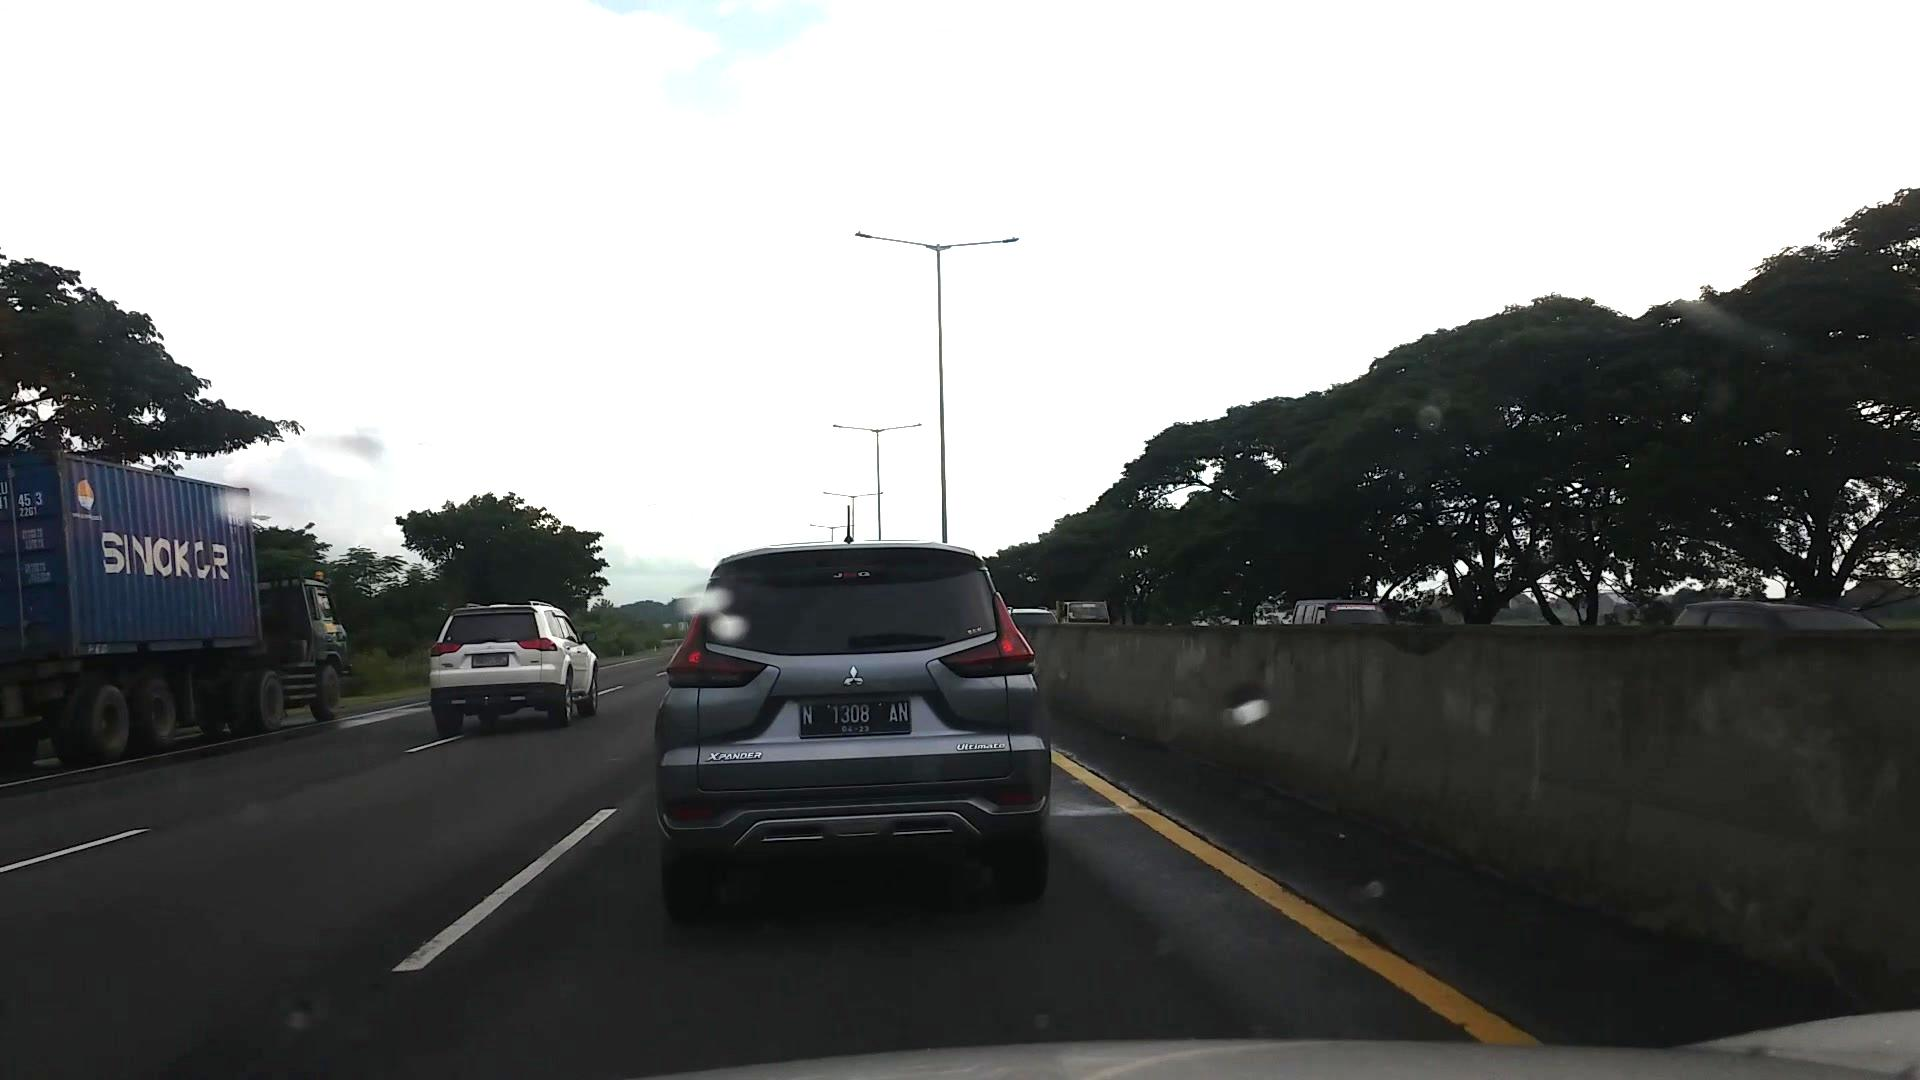plate_positive: (800, 699, 913, 737)
